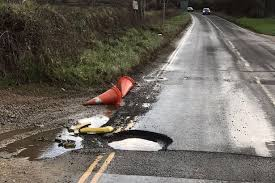pothole: (9, 116, 173, 157), (133, 83, 155, 116)
